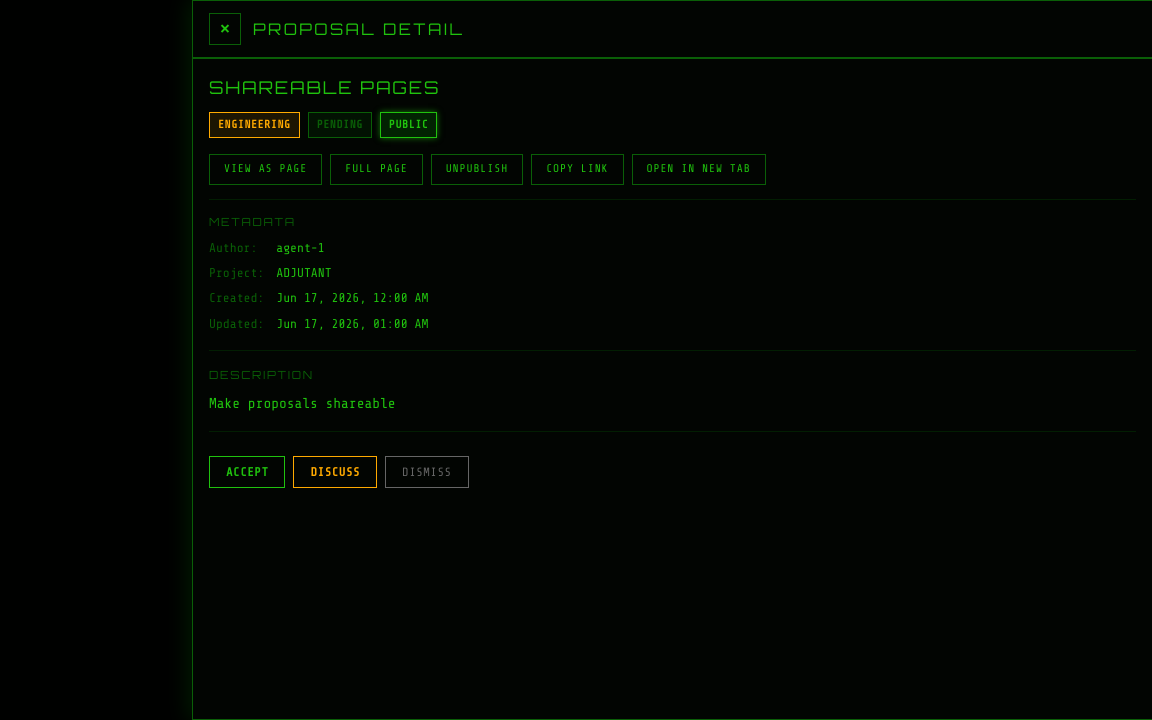
Scenario: ProposalDetailView sharing controls (adj-200.4.3) › unpublishes and flips the badge to PRIVATE
Click the button "UNPUBLISH" at point(477, 170), box [431, 154, 523, 185]
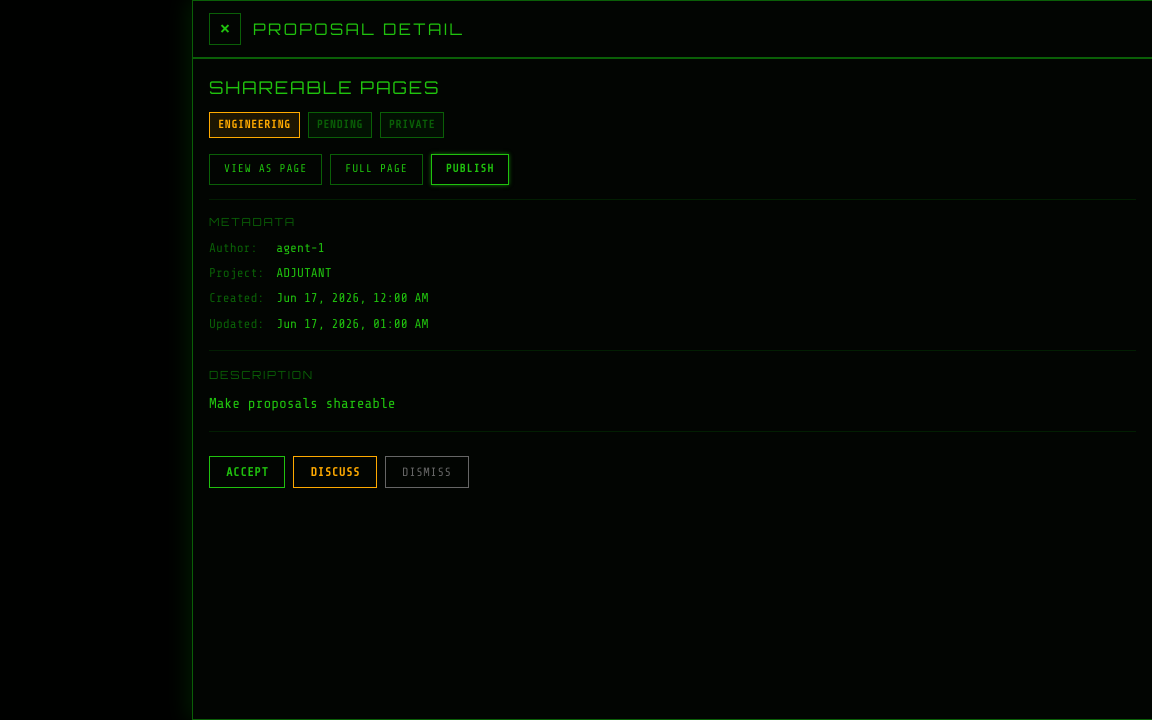
Check: the text "PRIVATE" is shown, box [380, 112, 444, 138]
